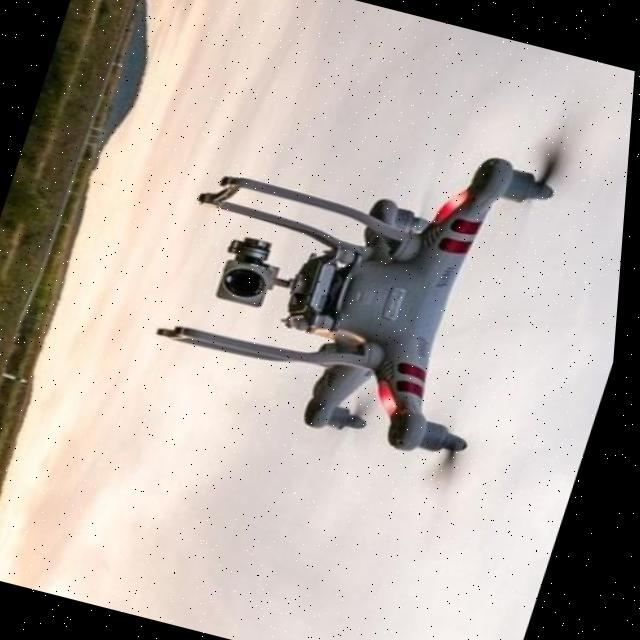drones: (65, 0, 640, 573)
